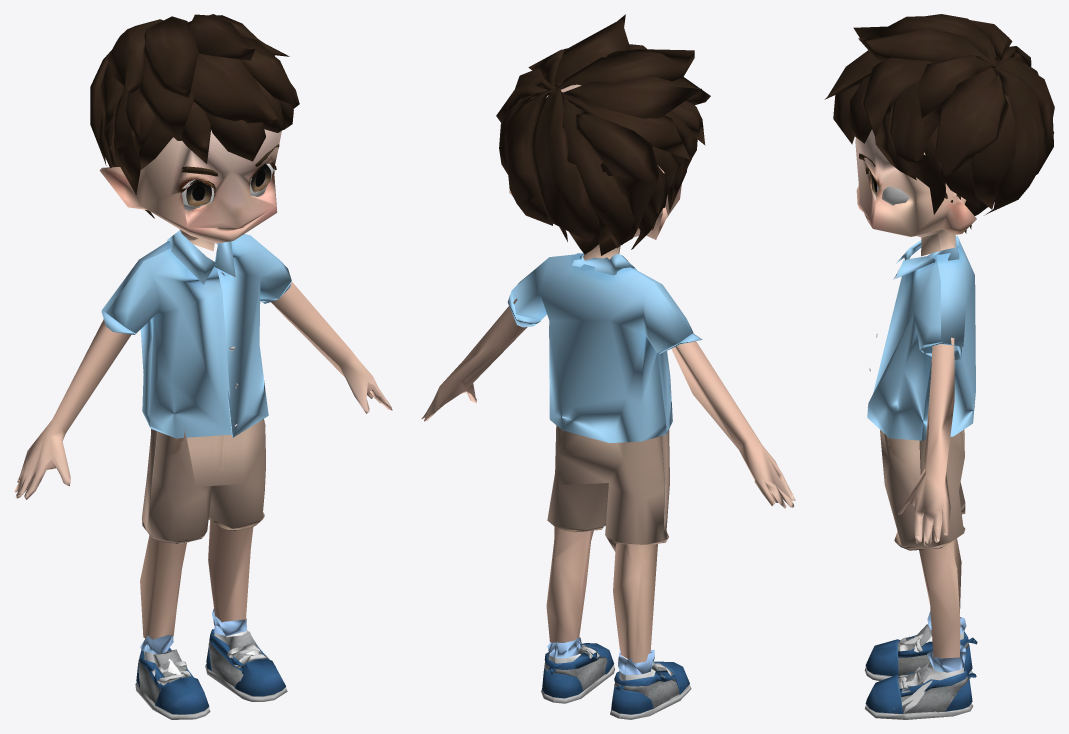
The model's file is Little_boy.glb.
The picture shows the model from 3 angles, left to right: view 1: azimuth 30°, elevation 25°; view 2: azimuth 150°, elevation 25°; view 3: azimuth 270°, elevation 25°; orthographic projection.
Visible parts, largest first — view 1: Obj3d66-14758446-6-364, Obj3d66-14758446-14-641, Obj3d66-14758446-11-916, Obj3d66-14758446-8-123, Obj3d66-14758446-3-461; view 2: Obj3d66-14758446-6-364, Obj3d66-14758446-11-916, Obj3d66-14758446-14-641, Obj3d66-14758446-8-123; view 3: Obj3d66-14758446-11-916, Obj3d66-14758446-6-364, Obj3d66-14758446-14-641, Obj3d66-14758446-8-123, Obj3d66-14758446-3-461.
Part boxes in pixels (x1,y1,x2,y2): Obj3d66-14758446-6-364: (101,230,291,677); Obj3d66-14758446-14-641: (14,129,392,639); Obj3d66-14758446-11-916: (90,14,299,218); Obj3d66-14758446-8-123: (135,629,287,719); Obj3d66-14758446-3-461: (182,163,274,210); Obj3d66-14758446-6-364: (507,253,702,680); Obj3d66-14758446-11-916: (496,14,710,255); Obj3d66-14758446-14-641: (421,84,795,663); Obj3d66-14758446-8-123: (541,643,691,719); Obj3d66-14758446-11-916: (824,14,1054,233); Obj3d66-14758446-6-364: (867,236,975,713); Obj3d66-14758446-14-641: (855,129,976,658); Obj3d66-14758446-8-123: (864,624,977,719); Obj3d66-14758446-3-461: (872,174,909,205).
Size of the model in its own units: 0.5915 by 0.9989 by 0.315.
7 materials, 6 textured.
